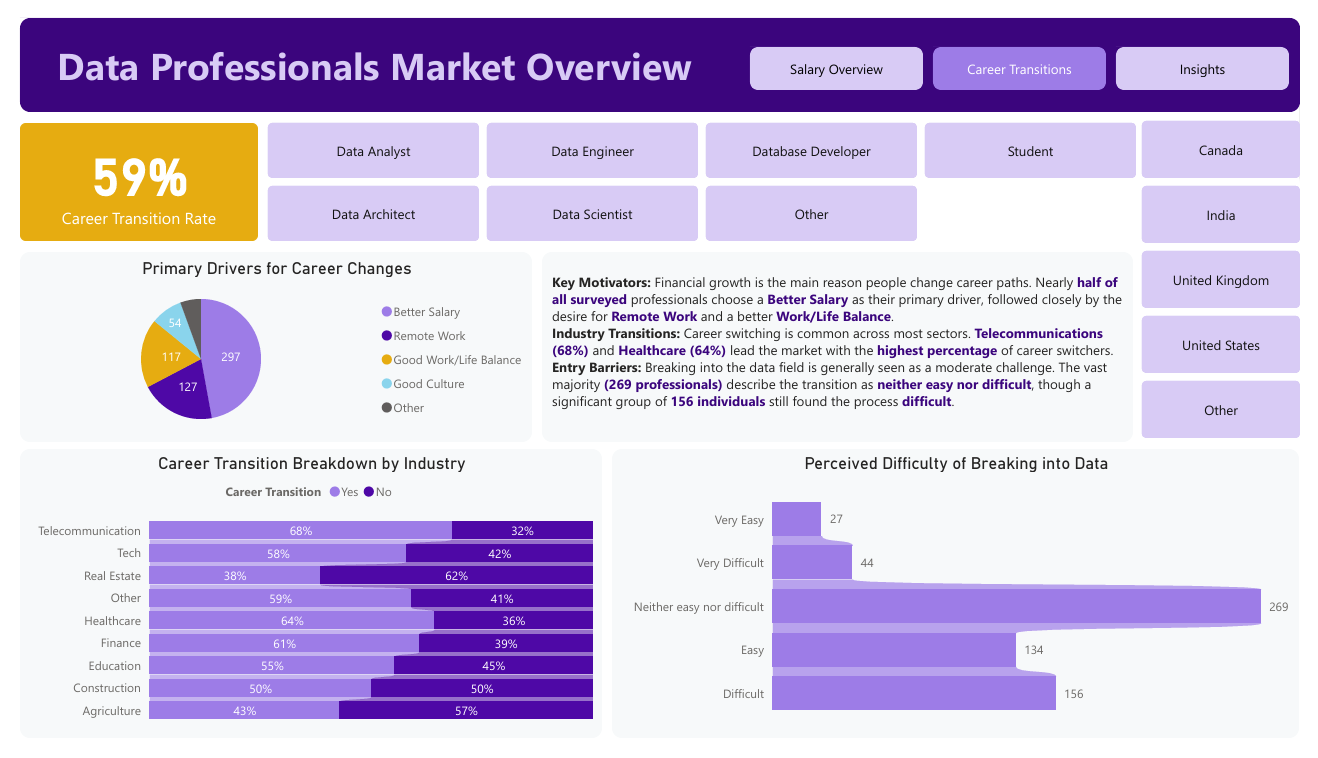

This screenshot's page, from the dashboard's own definition file:
{"tool":"powerbi","page":{"name":"Career Transitions","canvas":[1280,720],"ordinal":1},"visuals":[{"type":"shape","box":[0,0,1280,94.4],"z":0},{"type":"advancedSlicerVisual","fields":{"Values":["data_professionals_survey.Country"]},"box":[1112,103,168,321],"z":1000},{"type":"textbox","box":[32,17,756,60],"z":2000},{"type":"textbox","box":[522,234,591,190],"z":3000},{"type":"advancedSlicerVisual","fields":{"Values":["data_professionals_survey.Current_Role"]},"box":[237.9,104.6,888.2,117.9],"z":4000},{"type":"pageNavigator","box":[730.3,28.7,538.5,43.1],"z":5000},{"type":"hundredPercentStackedBarChart","title":"Career Transition Breakdown by Industry","fields":{"Series":["data_professionals_survey.Switched_Careers"],"Y":["CountNonNull(data_professionals_survey.Unique ID)"],"Category":["data_professionals_survey.Industry"]},"box":[0,431,582,289],"z":6000},{"type":"pieChart","title":"Primary Drivers for Career Changes","fields":{"Category":["data_professionals_survey.New_Job_Type"],"Y":["Count(data_professionals_survey.Unique ID)"]},"box":[0,234,512,190],"z":7000},{"type":"barChart","title":"Perceived Difficulty of Breaking into Data","fields":{"Category":["data_professionals_survey.Break_into_Data"],"Y":["CountNonNull(data_professionals_survey.Unique ID)"]},"box":[592,431,687,289],"z":8000},{"type":"card","fields":{"Values":["data_professionals_survey.Switched_Carrers_Measure"]},"box":[0,105,238,118],"z":9000}]}

Visuals, with their boxes in screenshot pixels (x1, y1, x2, y2), scaled from the page's 1280x720 canvas onto the 1318x758 screenshot:
shape: <region>0, 0, 1317, 99</region>
advancedSlicerVisual - data_professionals_survey.Country: <region>1145, 108, 1317, 446</region>
textbox: <region>33, 18, 811, 81</region>
textbox: <region>537, 246, 1146, 446</region>
advancedSlicerVisual - data_professionals_survey.Current_Role: <region>245, 110, 1160, 234</region>
pageNavigator: <region>752, 30, 1306, 76</region>
"Career Transition Breakdown by Industry" hundredPercentStackedBarChart: <region>0, 454, 599, 757</region>
"Primary Drivers for Career Changes" pieChart: <region>0, 246, 527, 446</region>
"Perceived Difficulty of Breaking into Data" barChart: <region>610, 454, 1317, 757</region>
card - data_professionals_survey.Switched_Carrers_Measure: <region>0, 111, 245, 235</region>
